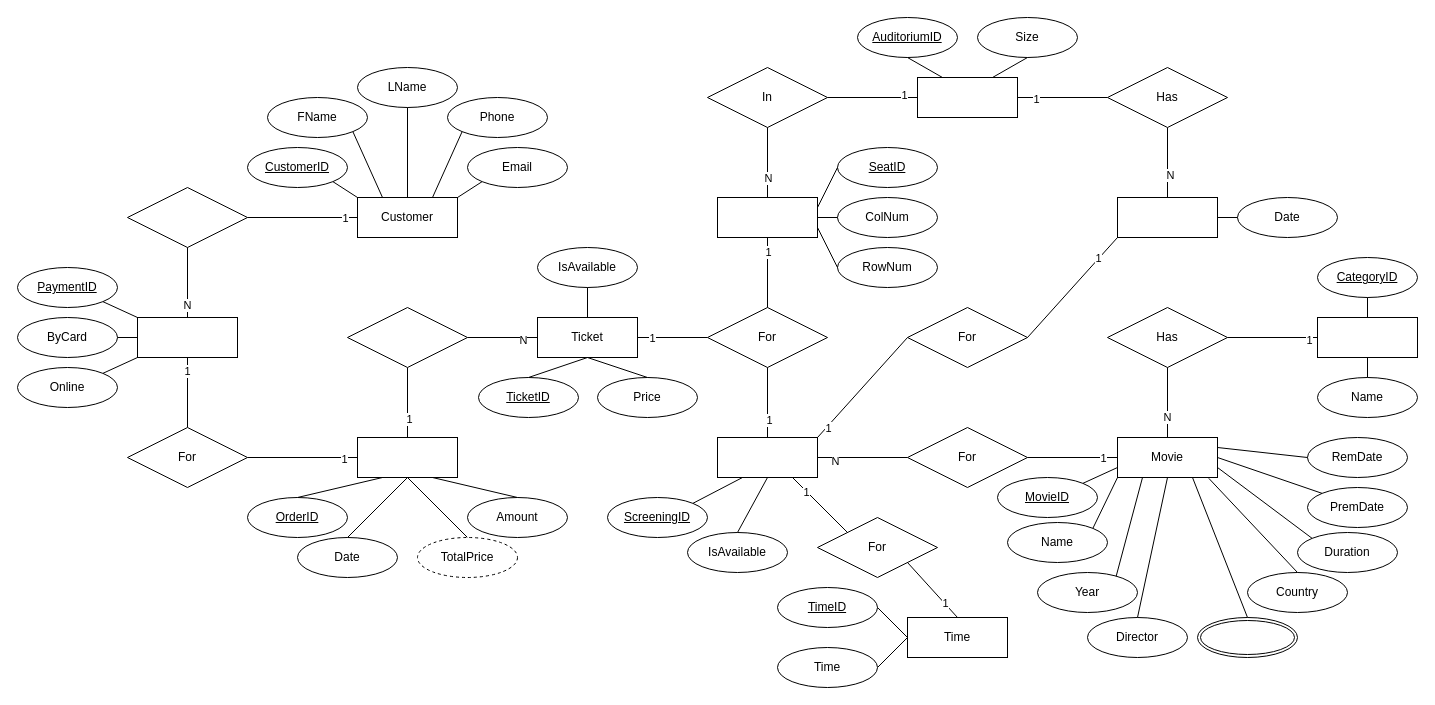
Some shapes in this 1435 by 705 pixel diagram are drawn without their labels. The shapes that lost their labels are listed below. From the top down, each one's centre as x and y in pixels, then its label:
pixel 967 97: Auditorium
pixel 187 217: Makes
pixel 767 217: Seat
pixel 1167 217: Schedule
pixel 187 337: Payment
pixel 407 337: Includes
pixel 1367 337: Category
pixel 407 457: Order
pixel 767 457: Screening
pixel 1247 637: Actor
